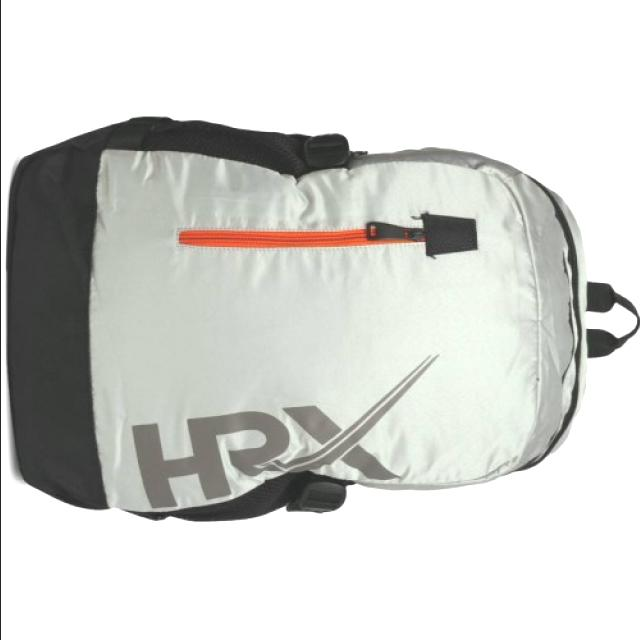backpack: (7, 116, 640, 523)
